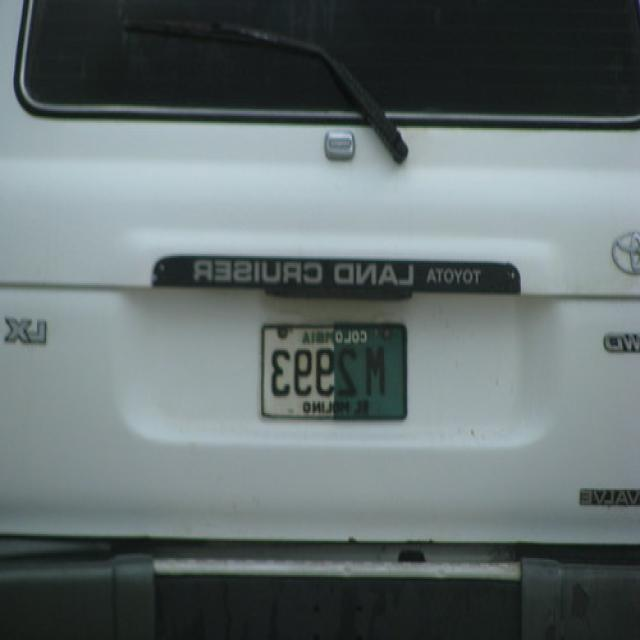placas: (260, 337, 400, 399)
